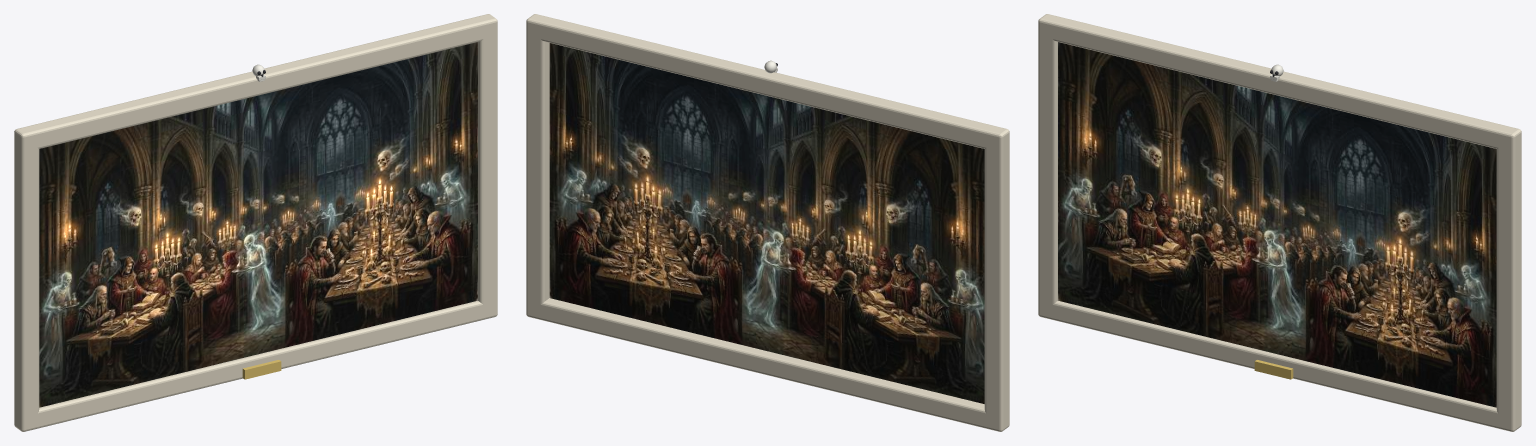
Rendered from art_great_hall_feast.glb.
The picture shows the model from 3 angles, left to right: view 1: azimuth 30°, elevation 25°; view 2: azimuth 150°, elevation 25°; view 3: azimuth 330°, elevation 25°; orthographic projection.
Visible parts, largest first — view 1: GD_art_great_hall_feast__m0, GD_art_great_hall_feast__m1, GD_art_great_hall_feast__m3; view 2: GD_art_great_hall_feast__m0, GD_art_great_hall_feast__m1; view 3: GD_art_great_hall_feast__m0, GD_art_great_hall_feast__m1, GD_art_great_hall_feast__m3.
Part boxes in pixels (x1,y1,x2,y2): GD_art_great_hall_feast__m0: (39,42,477,407); GD_art_great_hall_feast__m1: (14,14,497,431); GD_art_great_hall_feast__m3: (242,360,281,379); GD_art_great_hall_feast__m0: (549,43,984,403); GD_art_great_hall_feast__m1: (526,14,1009,431); GD_art_great_hall_feast__m0: (1058,42,1496,407); GD_art_great_hall_feast__m1: (1038,14,1521,431); GD_art_great_hall_feast__m3: (1254,360,1293,379).
Size of the model in its own units: 1.84 by 1.14 by 0.0775.
Materials: 5 (1 with a texture image).
